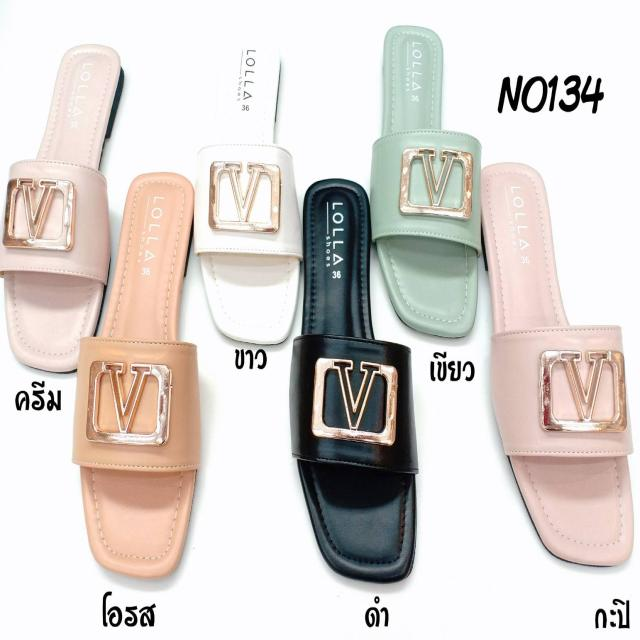black: (290, 179, 415, 572)
cream: (1, 45, 129, 374)
green: (374, 28, 481, 335)
kapi: (487, 157, 631, 569)
orot: (79, 171, 210, 572)
white: (198, 29, 297, 350)
